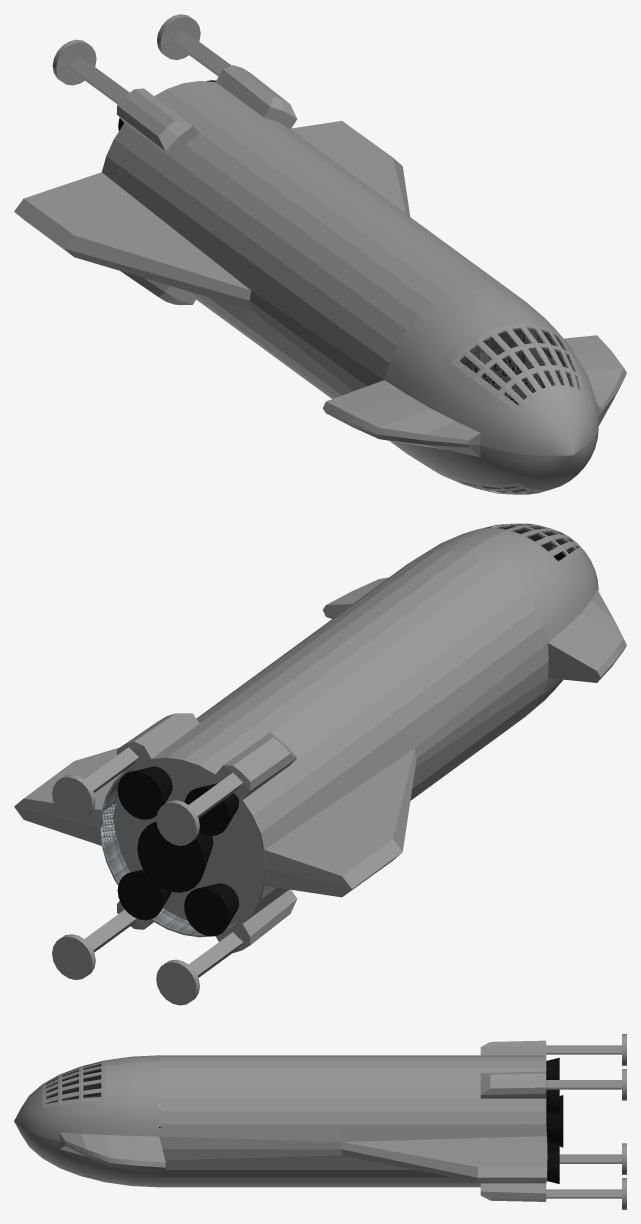
Rendered from starship.FBX.
The picture shows the model from 3 angles, top to bottom: view 1: azimuth 30°, elevation 25°; view 2: azimuth 150°, elevation 25°; view 3: azimuth 270°, elevation 25°; orthographic projection. The views are drawn at different scales.
Visible parts, largest first — view 1: Sphere001, Cylinder004, Cylinder005, Box256, Box257, Cylinder001; view 2: Sphere001, Cylinder003, Cone001, Cone005, Cone002, Cone004, Cylinder004, Cylinder007, Cylinder005, Cylinder006, Cone003, Box257 (+3 smaller); view 3: Sphere001, Box256, Box257, Box259, Cone001, Box258, Cone004, Cone002, Cone003.
Part boxes in pixels (box(x1,y1,x2,y2)): Sphere001: box(14, 65, 626, 494); Cylinder004: box(52, 39, 96, 85); Cylinder005: box(157, 14, 200, 59); Box256: box(68, 55, 129, 104); Box257: box(173, 30, 231, 76); Cylinder001: box(460, 329, 547, 370); Sphere001: box(14, 523, 626, 952); Cylinder003: box(113, 759, 279, 924); Cone001: box(137, 821, 213, 892); Cone005: box(184, 883, 238, 936); Cone002: box(117, 766, 172, 819); Cone004: box(117, 869, 171, 920); Cylinder004: box(156, 800, 199, 845); Cylinder007: box(52, 934, 95, 979); Cylinder005: box(52, 774, 95, 820); Cylinder006: box(156, 959, 199, 1005); Cone003: box(184, 783, 238, 835); Box257: box(84, 747, 138, 792); Sphere001: box(14, 1040, 547, 1201); Box256: box(546, 1045, 621, 1054); Box257: box(546, 1080, 621, 1089); Box259: box(546, 1189, 621, 1198); Cone001: box(546, 1095, 563, 1147); Box258: box(559, 1154, 621, 1163); Cone004: box(547, 1148, 559, 1183); Cone002: box(546, 1089, 559, 1115); Cone003: box(546, 1057, 559, 1079).
Size of the model in its own units: 387 by 220 by 887.
